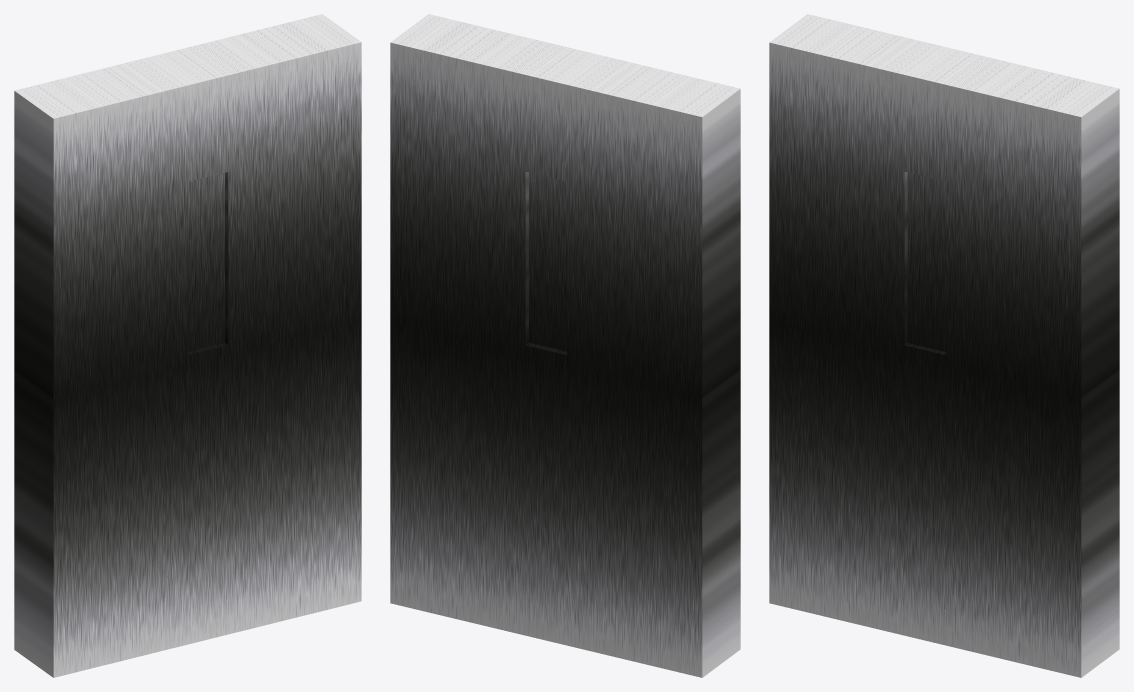
The model's file is door2.FBX.
3 views of the same model, side by side, from view 1: azimuth 30°, elevation 25°; view 2: azimuth 150°, elevation 25°; view 3: azimuth 330°, elevation 25° (orthographic).
Parts seen in each view (by area): view 1: drzwiii; view 2: drzwiii; view 3: drzwiii.
Part boxes in pixels (bbox=[...]): drzwiii: bbox=[14, 14, 361, 677]; drzwiii: bbox=[390, 14, 740, 677]; drzwiii: bbox=[769, 14, 1119, 677].
Bounding box in the file's own units: 364 × 627 × 81.77.
1 material, 1 textured.
